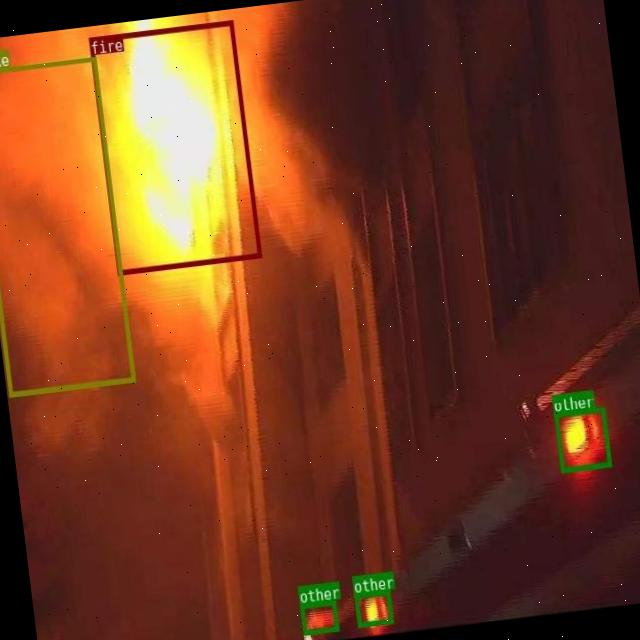fire: (88, 20, 261, 274)
smoke: (0, 55, 135, 395)
